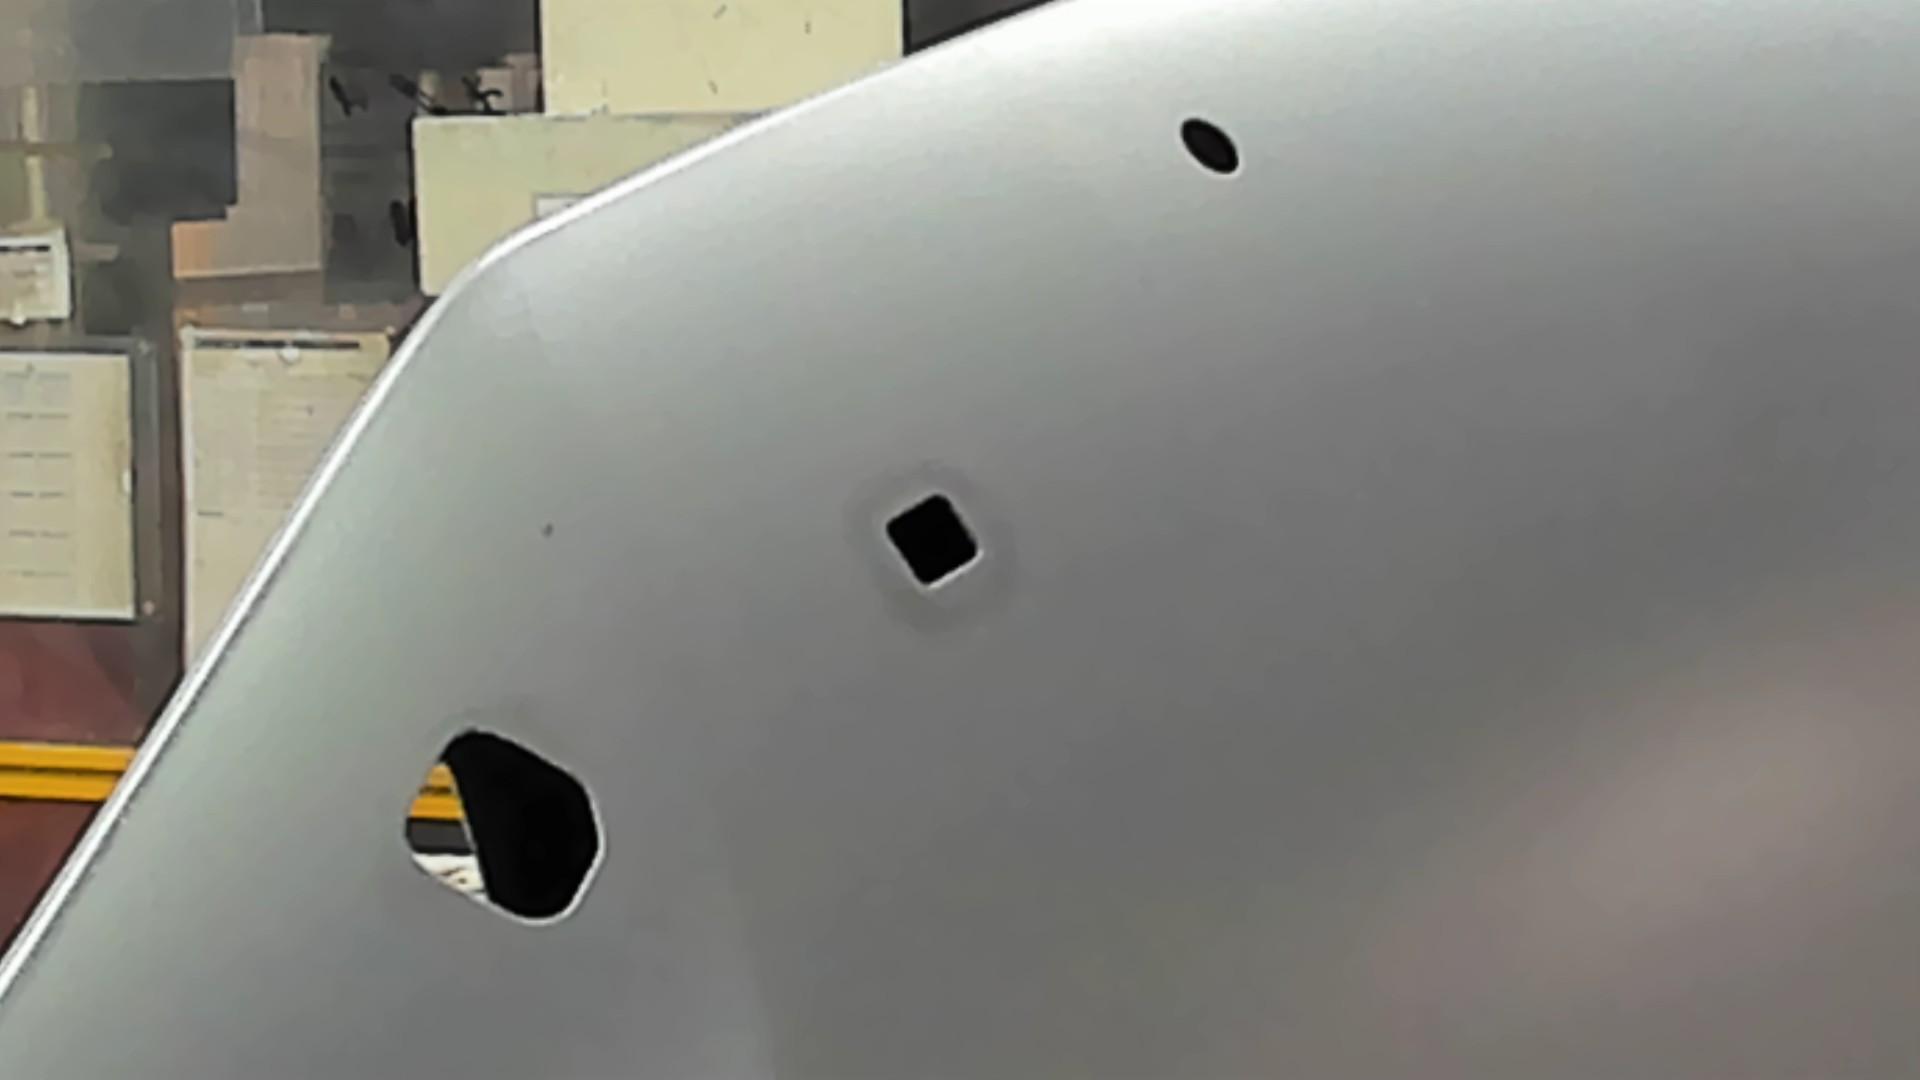chico: (1178, 111, 1244, 179)
grande: (392, 723, 615, 934)
mediano: (873, 488, 996, 596)
